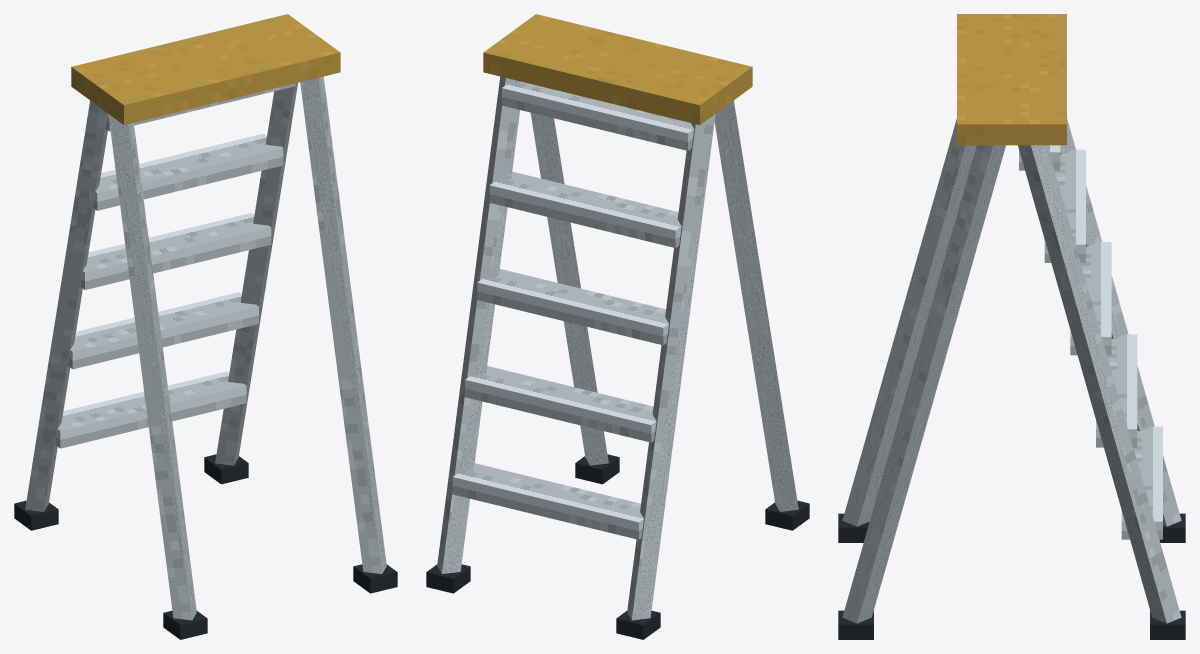
File: f_aluminum_stepladder.glb
The picture shows the model from 3 angles, left to right: view 1: azimuth 30°, elevation 25°; view 2: azimuth 150°, elevation 25°; view 3: azimuth 270°, elevation 25°; orthographic projection. The views are drawn at different scales.
Parts seen in each view (by area): view 1: block_top-step, block_ladder-rail--0.25-1, block_ladder-rail-0.25-1, block_ladder-rail--0.25--1, block_ladder-rail-0.25--1, block_rung-1, block_rung-3, block_rung-2, block_rung-4, block_ladder-foot-0.25-1, block_ladder-foot--0.25-1, block_ladder-foot-0.25--1 (+2 smaller); view 2: block_top-step, block_ladder-rail--0.25--1, block_ladder-rail-0.25--1, block_ladder-rail--0.25-1, block_rung-4, block_rung-3, block_rung-1, block_rung-2, block_ladder-rail-0.25-1, block_rung-5, block_ladder-foot-0.25--1, block_ladder-foot--0.25--1 (+2 smaller); view 3: block_top-step, block_ladder-rail-0.25--1, block_ladder-rail-0.25-1, block_ladder-rail--0.25-1, block_ladder-rail--0.25--1, block_rung-4, block_rung-2, block_rung-3, block_rung-1, block_ladder-foot-0.25--1, block_ladder-foot-0.25-1, block_ladder-foot--0.25-1 (+1 smaller).
Boxes of the visible parts, box(x1,y1,x2,y2) form: block_top-step: box(71, 14, 340, 124); block_ladder-rail--0.25-1: box(108, 114, 196, 620); block_ladder-rail-0.25-1: box(300, 76, 386, 573); block_ladder-rail--0.25--1: box(25, 100, 107, 511); block_ladder-rail-0.25--1: box(215, 83, 297, 465); block_rung-1: box(55, 371, 246, 448); block_rung-3: box(80, 213, 271, 289); block_rung-2: box(67, 292, 258, 369); block_rung-4: box(93, 133, 283, 210); block_ladder-foot-0.25-1: box(353, 564, 397, 593); block_ladder-foot--0.25-1: box(163, 610, 207, 639); block_ladder-foot-0.25--1: box(204, 454, 248, 484); block_top-step: box(483, 14, 752, 124); block_ladder-rail--0.25--1: box(627, 114, 715, 620); block_ladder-rail-0.25--1: box(437, 76, 521, 573); block_ladder-rail--0.25-1: box(714, 100, 798, 511); block_rung-4: box(489, 171, 681, 247); block_rung-3: box(477, 269, 668, 345); block_rung-1: box(452, 463, 643, 539); block_rung-2: box(465, 366, 656, 442); block_ladder-rail-0.25-1: box(530, 112, 608, 465); block_rung-5: box(502, 82, 694, 150); block_ladder-foot-0.25--1: box(426, 564, 470, 593); block_ladder-foot--0.25--1: box(616, 610, 660, 639); block_top-step: box(957, 14, 1066, 145); block_ladder-rail-0.25--1: box(1018, 145, 1181, 623); block_ladder-rail-0.25-1: box(842, 145, 1005, 623); block_ladder-rail--0.25-1: box(842, 118, 976, 526); block_ladder-rail--0.25--1: box(1060, 118, 1181, 526); block_rung-4: box(1044, 149, 1085, 262); block_rung-2: box(1096, 334, 1137, 447); block_rung-3: box(1070, 242, 1111, 355); block_rung-1: box(1121, 426, 1162, 539); block_ladder-foot-0.25--1: box(1150, 610, 1185, 639); block_ladder-foot-0.25-1: box(838, 610, 873, 639); block_ladder-foot--0.25-1: box(838, 513, 869, 542).
Size of the model in its own units: 0.572 by 1.24 by 0.758.
1 material, 1 textured.
